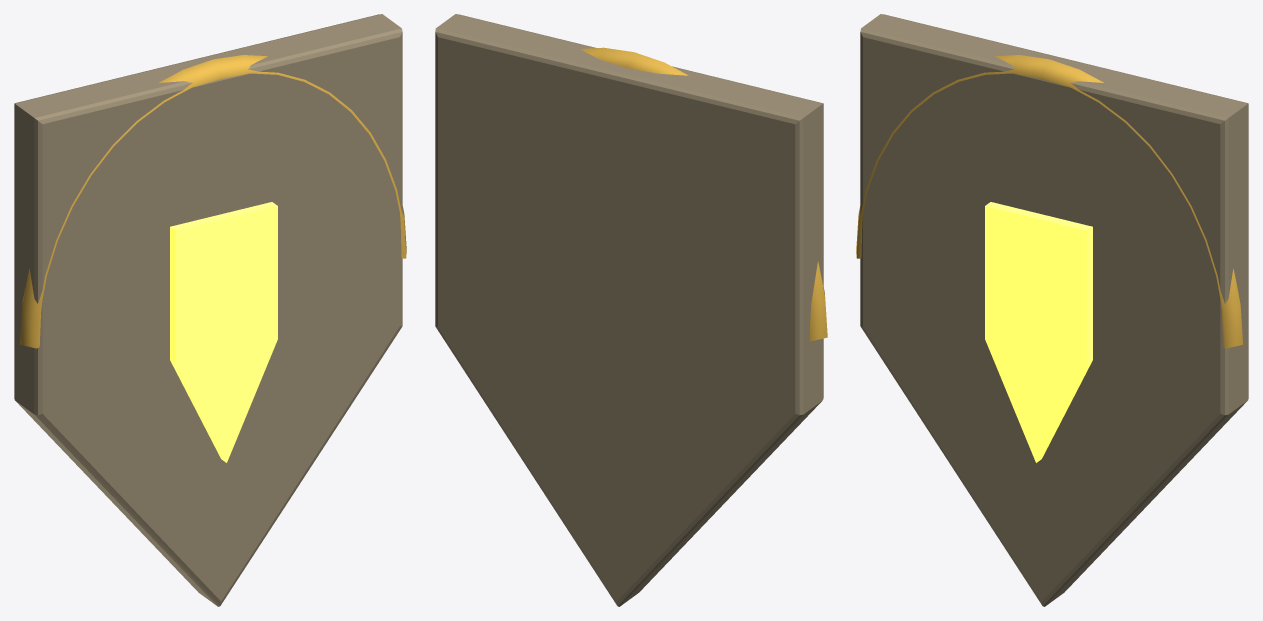
Rendered from shield_kite_t4.glb.
The picture shows the model from 3 angles, left to right: view 1: azimuth 30°, elevation 25°; view 2: azimuth 150°, elevation 25°; view 3: azimuth 330°, elevation 25°; orthographic projection.
Visible parts, largest first — view 1: m0_ow90_, m1_gm120_, m2_ow90_; view 2: m0_ow90_, m2_ow90_; view 3: m0_ow90_, m1_gm120_, m2_ow90_.
Part boxes in pixels (x1,y1,x2,y2): m0_ow90_: (14,14,402,606); m1_gm120_: (170,202,277,462); m2_ow90_: (20,55,406,348); m0_ow90_: (435,14,823,606); m2_ow90_: (580,47,827,341); m0_ow90_: (860,14,1248,606); m1_gm120_: (985,202,1092,462); m2_ow90_: (856,55,1242,348).
Size of the model in its own units: 0.9095 by 1.22 by 0.127.
